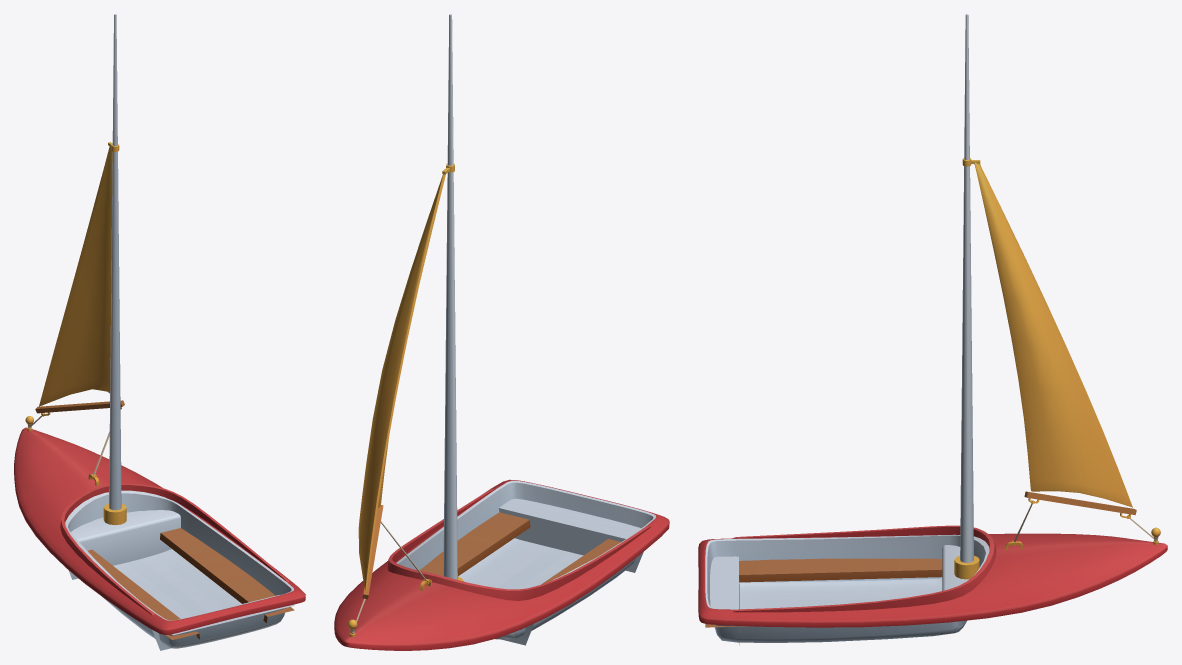
The model's file is SailBoat_Top.fbx.
3 views of the same model, side by side, from view 1: azimuth 30°, elevation 25°; view 2: azimuth 150°, elevation 25°; view 3: azimuth 270°, elevation 25° (orthographic). The views are drawn at different scales.
Parts seen in each view (by area): view 1: SailBoat_Top; view 2: SailBoat_Top; view 3: SailBoat_Top.
Part boxes in pixels (bbox=[...]): SailBoat_Top: bbox=[14, 14, 305, 650]; SailBoat_Top: bbox=[334, 14, 669, 650]; SailBoat_Top: bbox=[698, 14, 1167, 645].
Bounding box in the file's own units: 226 × 763 × 536.
